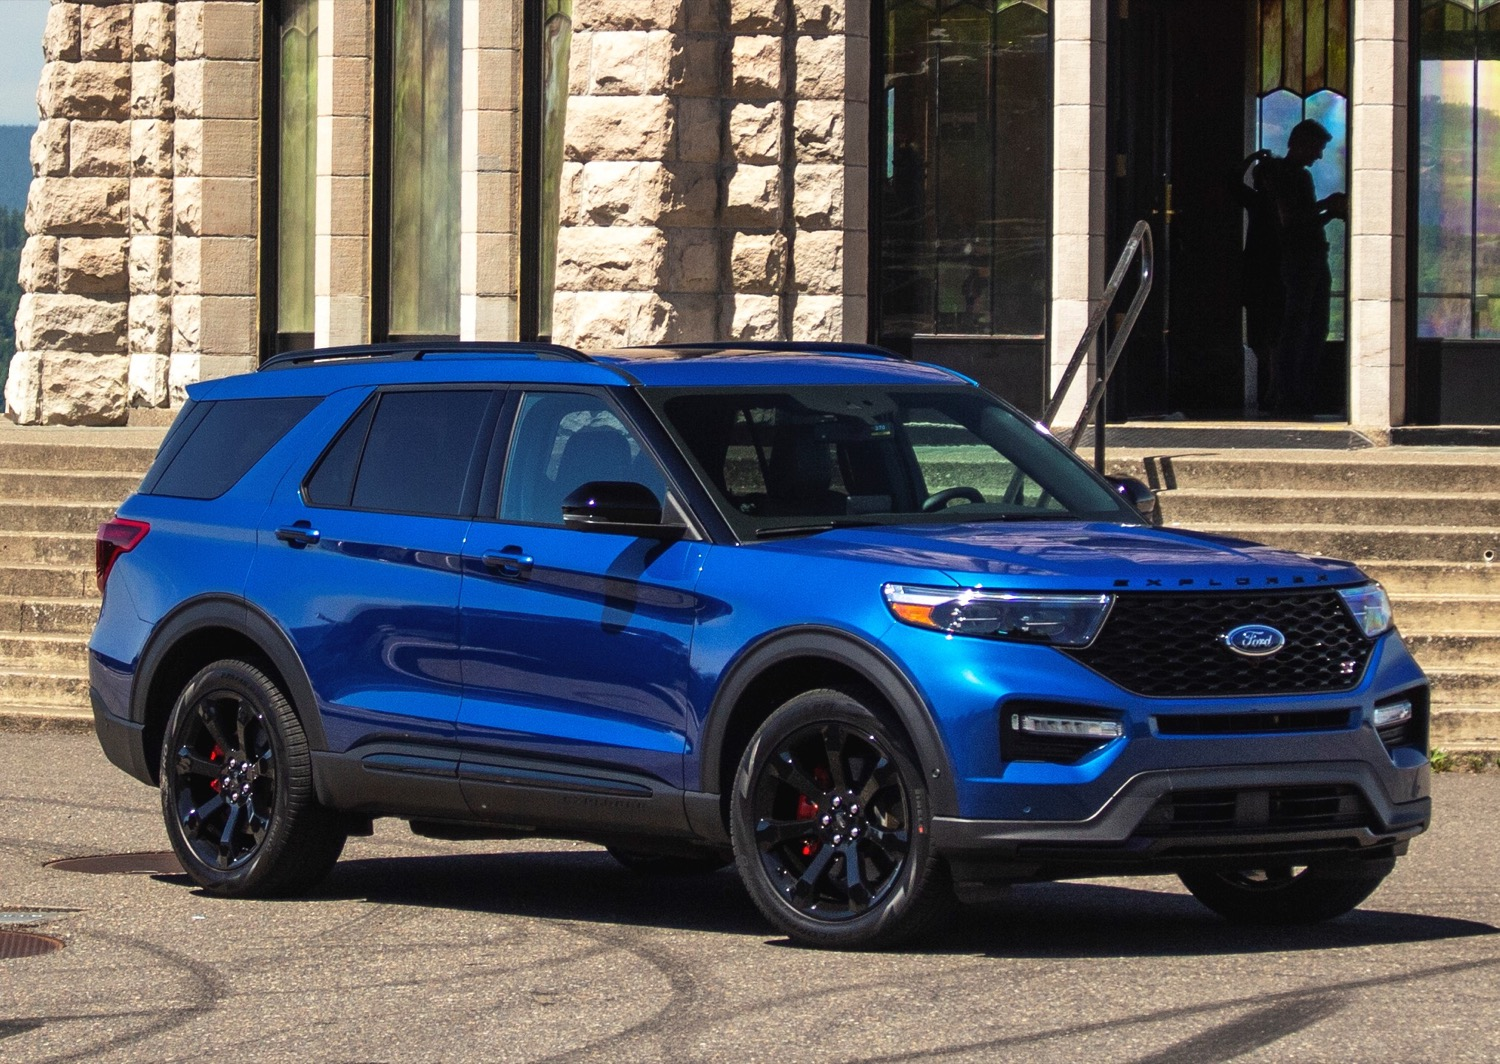Ford Explorer: (81, 332, 1441, 966)
